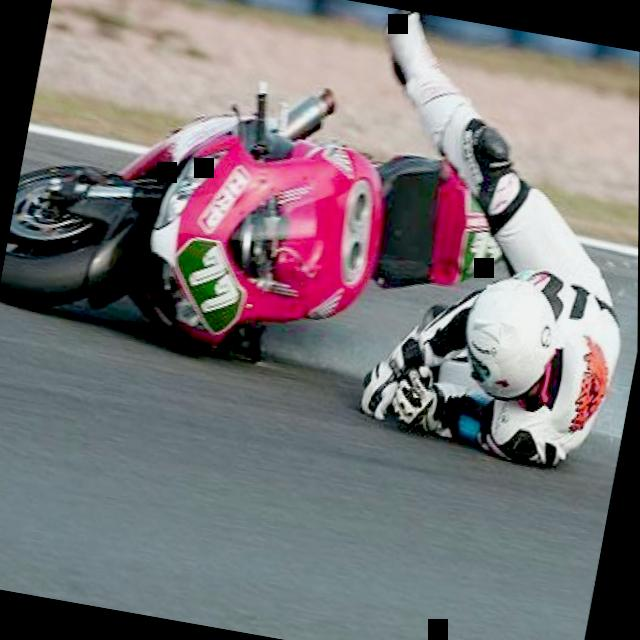Fall-Detected: (318, 8, 640, 460)
